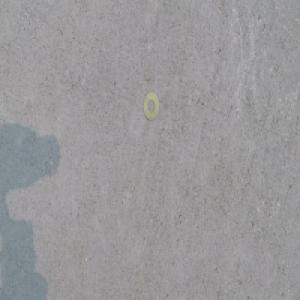Washer: (142, 91, 159, 122)
